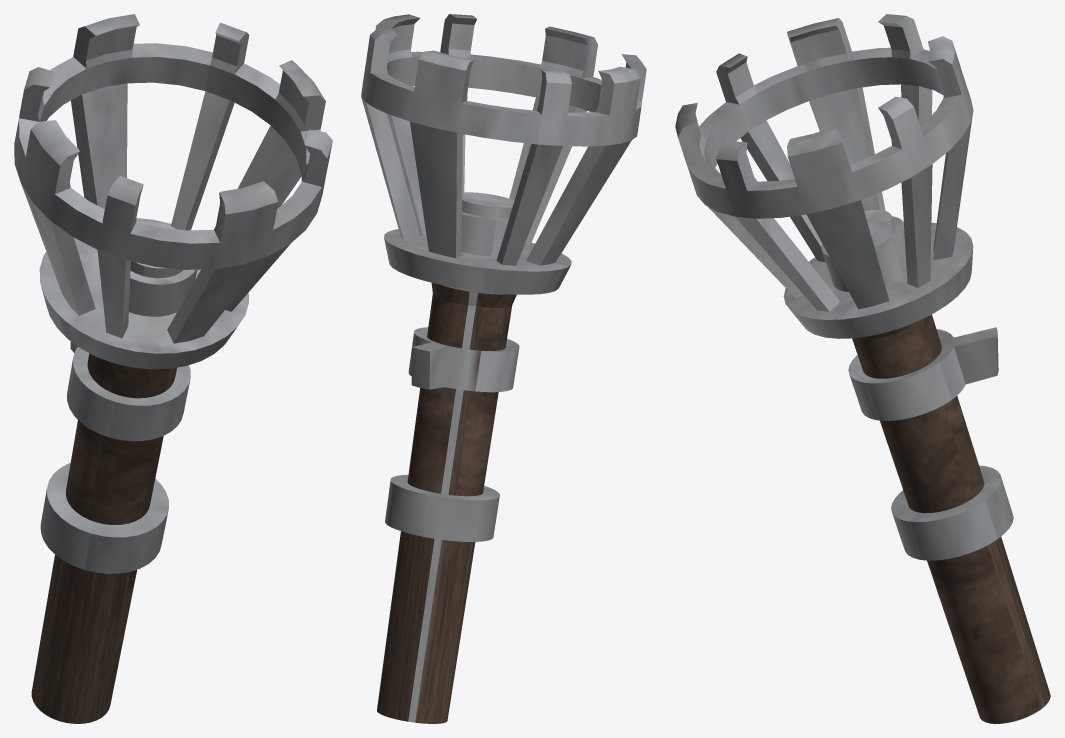
File: WallTorch Lowpoly.fbx
The picture shows the model from 3 angles, left to right: view 1: azimuth 30°, elevation 25°; view 2: azimuth 150°, elevation 25°; view 3: azimuth 270°, elevation 25°; orthographic projection. The views are drawn at different scales.
Visible parts, largest first — view 1: wood; view 2: wood; view 3: wood.
Part boxes in pixels (<box>): wood: <box>14,14,332,723</box>; wood: <box>361,14,646,723</box>; wood: <box>675,14,1050,723</box>.
Bounding box in the file's own units: 143 × 361 × 184.
Materials: 1 (1 with a texture image).
